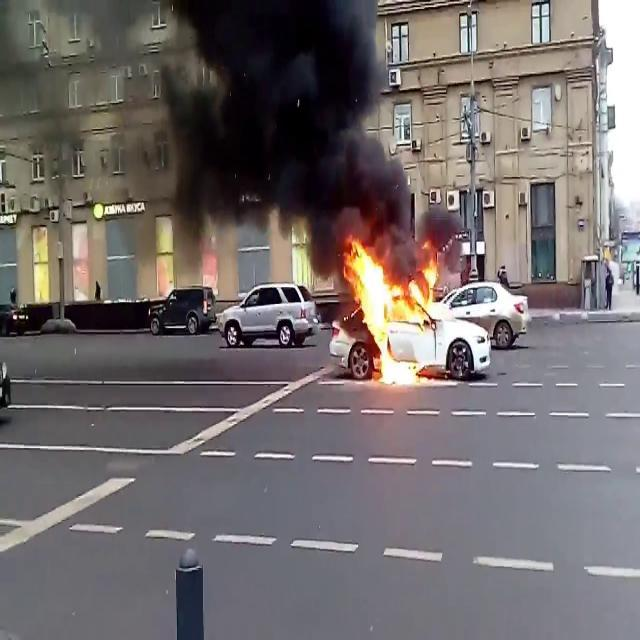Fire: (341, 236, 445, 379)
Smoke: (150, 1, 422, 262)
